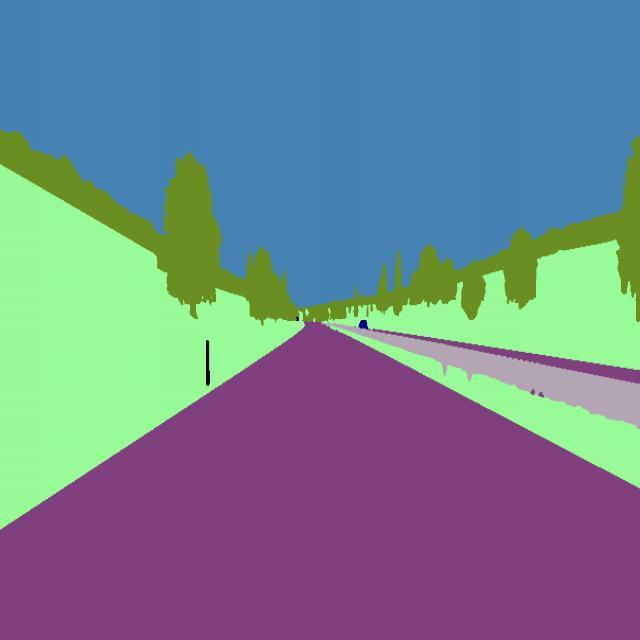safe: (356, 314, 370, 333)
